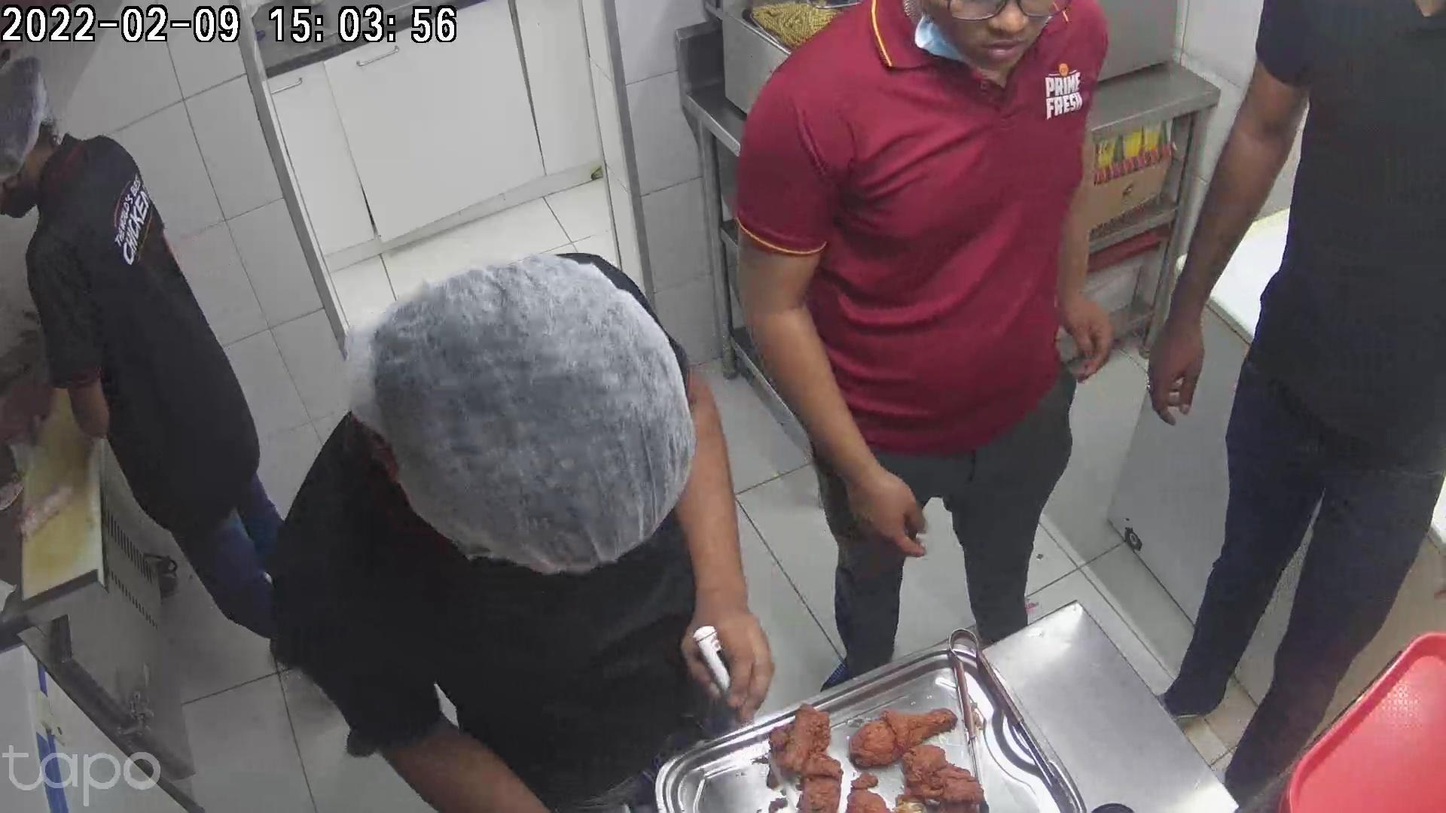no_gloves: (835, 425, 927, 554)
